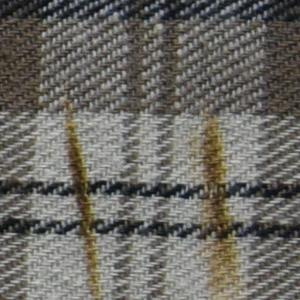Oil Stain: (198, 107, 249, 300), (62, 97, 106, 300)
